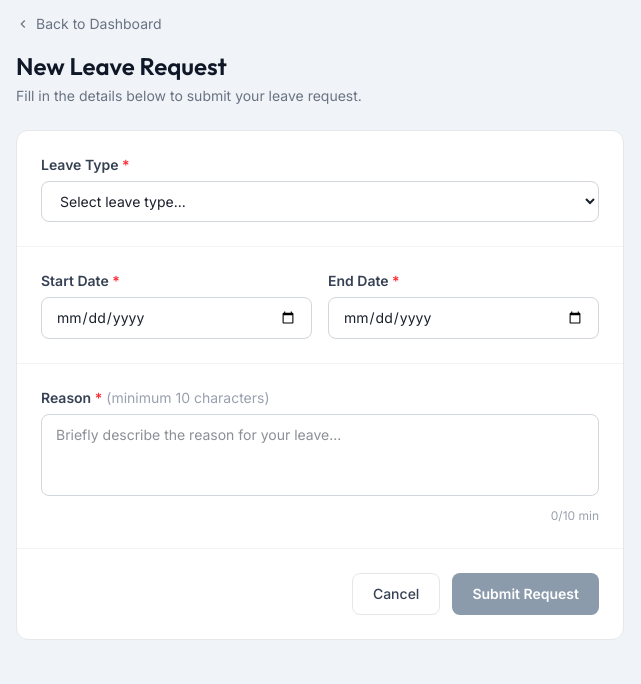
NewLeaveRequest — server error mapping › 400 → field-level inline errors
Select "Annual Leave" in the dropdown labelled "Leave Type *" at (320, 202), box [41,181,599,222]
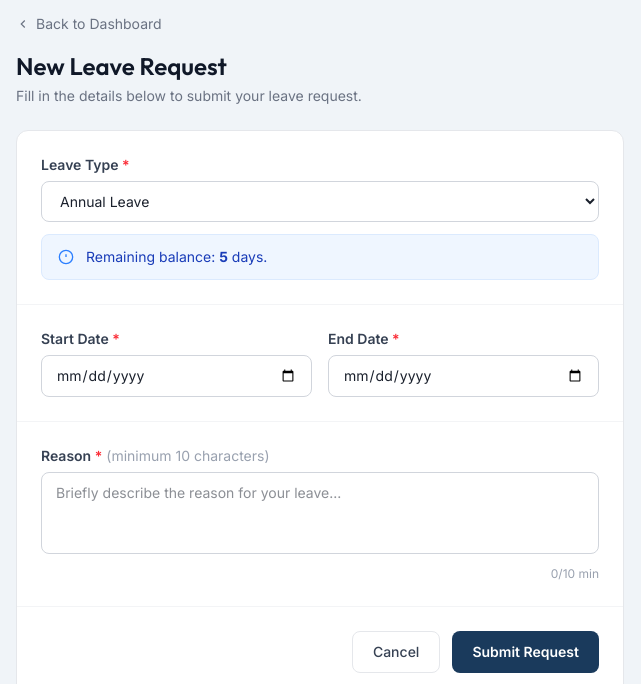
Type "2026-09-01" into the date field labelled "Start Date *" at (176, 376), box [41,355,312,397]
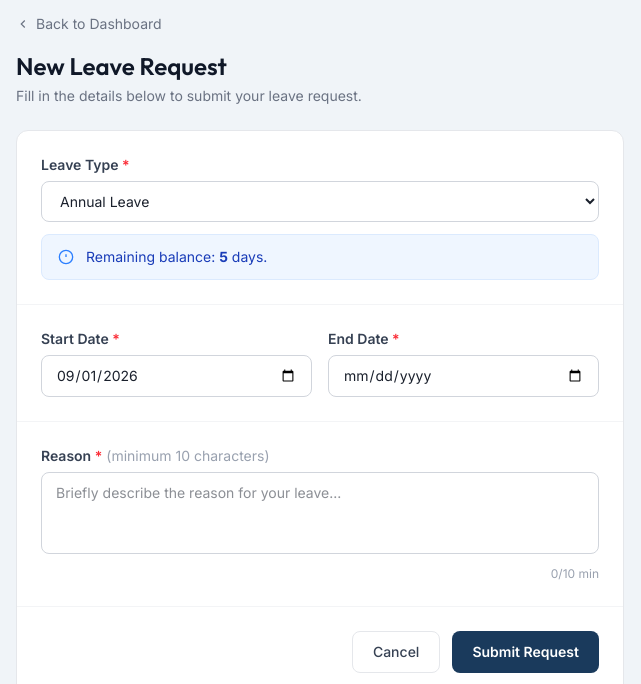
Type "2026-09-05" into the date field labelled "End Date *" at (464, 376), box [328,355,599,397]
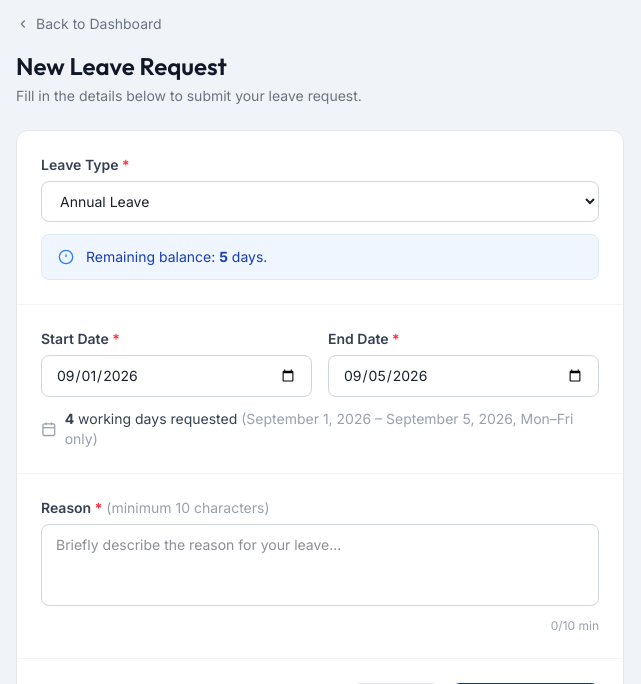
Type "Valid reason text for testing" into the text box labelled "Reason *(minimum 10 characters)" at (320, 565), box [41,524,599,606]
(page scrolled)
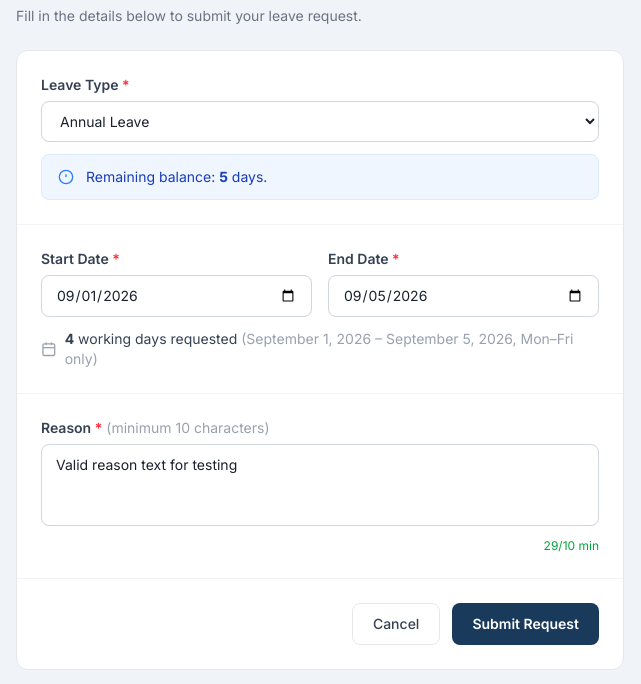
Submit the form named "Submit Request"
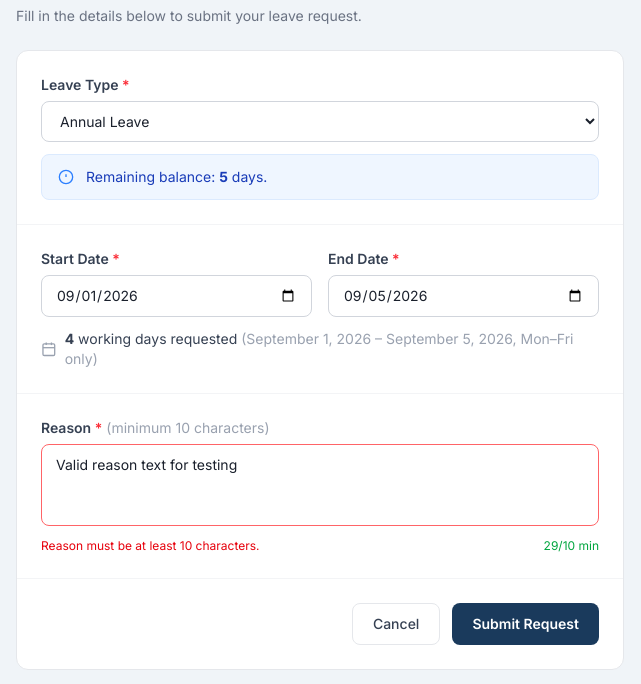
Expected: the text "Reason must be at least 10 characters." is shown, [41,538,260,554]
